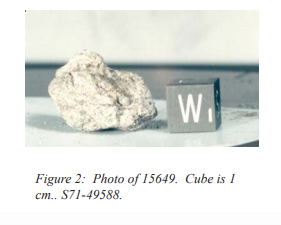Basalt: (44, 39, 159, 140)
